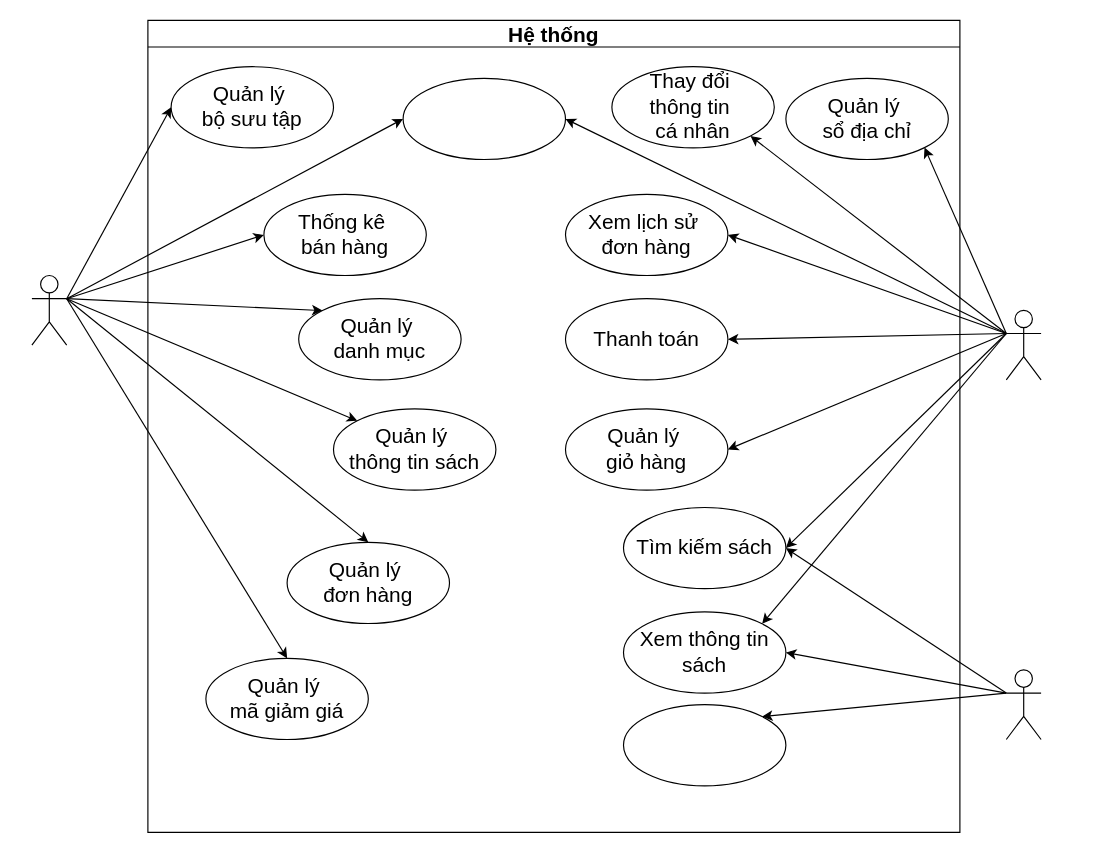
Some shapes in this 1101 by 853 pixel diagram are drawn without their labels. Here are the shapes that lost their labels. From the top down, the centre of each, then its label:
point (484, 118): Đăng nhập
point (49, 309): Admin
point (1023, 344): Khách Hàng
point (1023, 704): Khách Hàng Vãng Lai
point (704, 745): Đăng ký
